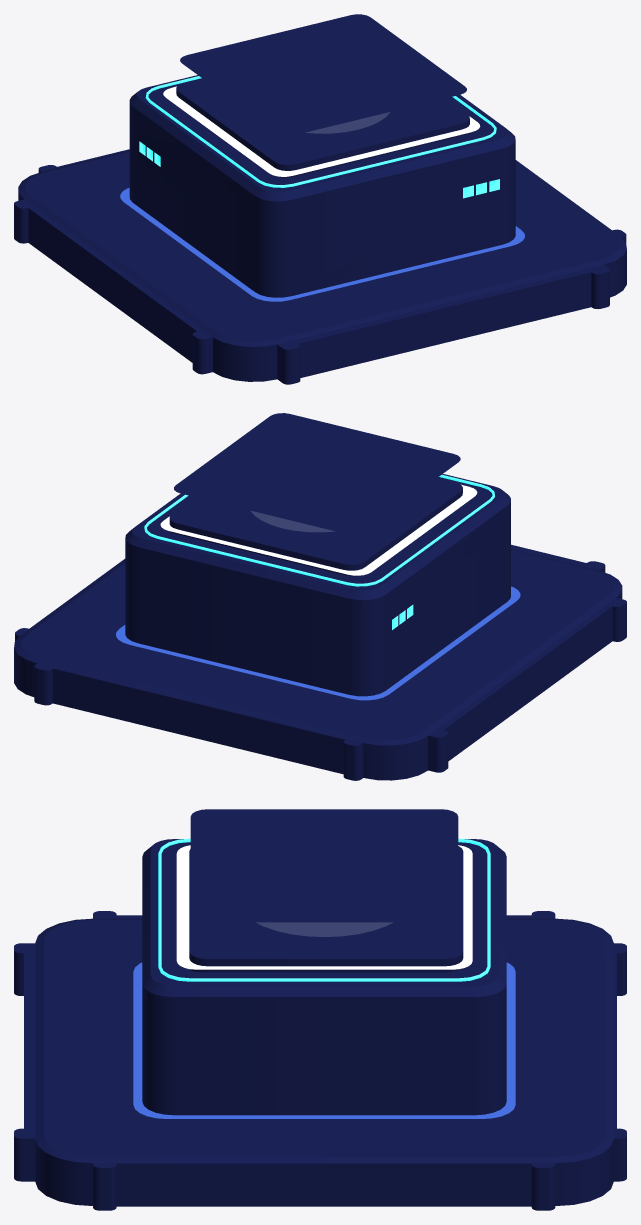
The model's file is City_experiment.glb.
3 views of the same model, one above another, from view 1: azimuth 30°, elevation 25°; view 2: azimuth 150°, elevation 25°; view 3: azimuth 270°, elevation 25° (orthographic). The views are drawn at different scales.
Parts seen in each view (by area): view 1: Main_platform.001, Main_platform, Platform1, Cube.001, Main_platform.005, Cube.003, Platform1.002, Main_platform.007, Main_platform.008, Plane, Main_platform.002; view 2: Main_platform.001, Main_platform, Platform1, Cube.002, Main_platform.005, Cube.003, Platform1.002, Main_platform.008, Main_platform.007, Plane, Cube.001, Main_platform.002; view 3: Main_platform, Main_platform.001, Platform1, Cube.004, Main_platform.005, Main_platform.008, Main_platform.007, Cube.001, Platform1.002, Plane, Cube.002, Main_platform.002 (+1 smaller).
Part boxes in pixels (x1,y1,x2,y2): Main_platform.001: (129,75,515,297); Main_platform: (18,150,626,381); Platform1: (180,14,466,135); Cube.001: (277,265,609,384); Main_platform.005: (176,78,469,177); Cube.003: (14,199,212,374); Platform1.002: (183,14,466,94); Main_platform.007: (163,86,480,176); Main_platform.008: (120,188,524,301); Plane: (145,76,496,187); Main_platform.002: (307,112,389,132); Main_platform.001: (125,474,510,696); Main_platform: (14,549,622,780); Platform1: (174,413,460,534); Cube.002: (34,663,363,780); Main_platform.005: (169,478,462,576); Cube.003: (428,598,626,772); Platform1.002: (174,414,347,532); Main_platform.008: (116,586,520,700); Main_platform.007: (160,484,477,575); Plane: (144,474,494,586); Cube.001: (511,544,605,572); Main_platform.002: (252,512,331,531); Main_platform: (35,918,613,1205); Main_platform.001: (142,839,506,1115); Platform1: (190,809,458,922); Cube.004: (93,1163,555,1210); Main_platform.005: (189,846,463,972); Main_platform.008: (133,962,515,1118); Main_platform.007: (176,845,472,969); Cube.001: (14,943,35,1181); Platform1.002: (191,815,456,922); Plane: (158,838,490,981); Cube.002: (614,943,626,1181); Main_platform.002: (259,923,390,936).
Size of what is drawn, in the model's own units: 8.3 by 3.3 by 8.37.
